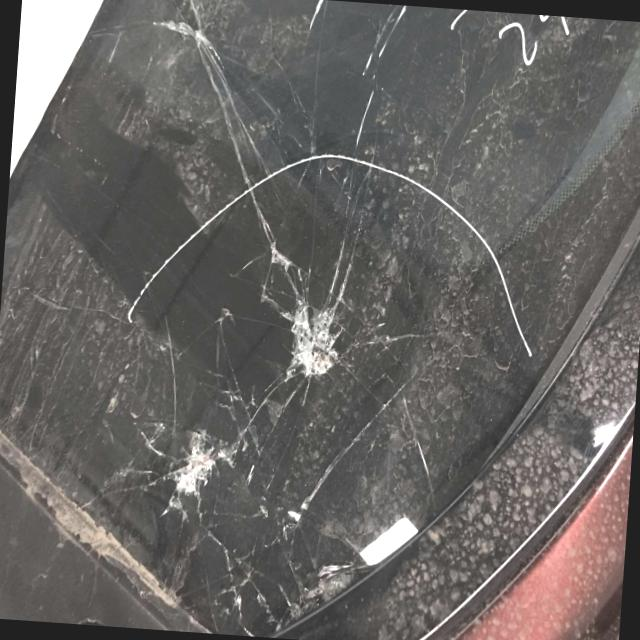Fissure: (195, 327, 385, 599), (349, 2, 431, 185), (153, 420, 245, 545), (276, 265, 353, 401)
